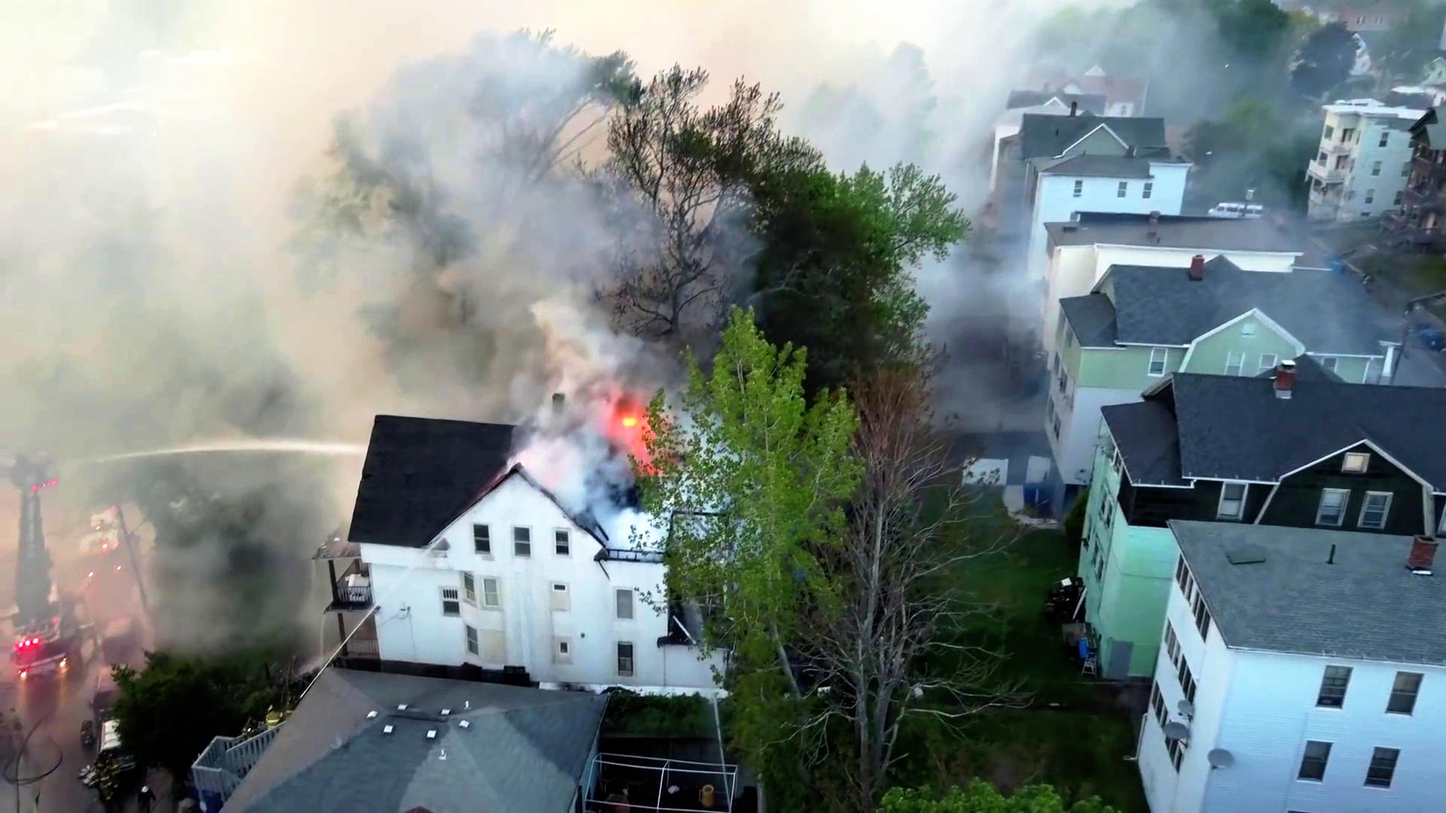smoke: (528, 292, 603, 491)
